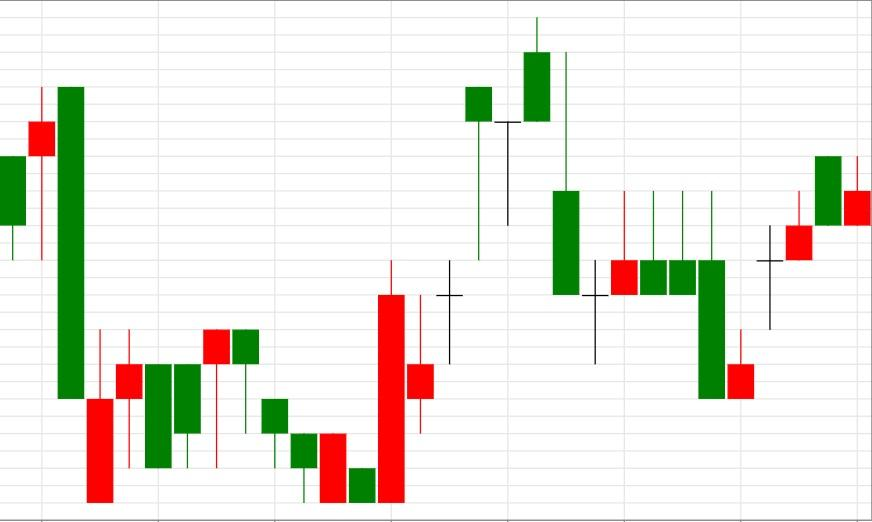bullish_engulfing_rise: (202, 259, 406, 504)
hanging_man_fall: (85, 329, 259, 504)
